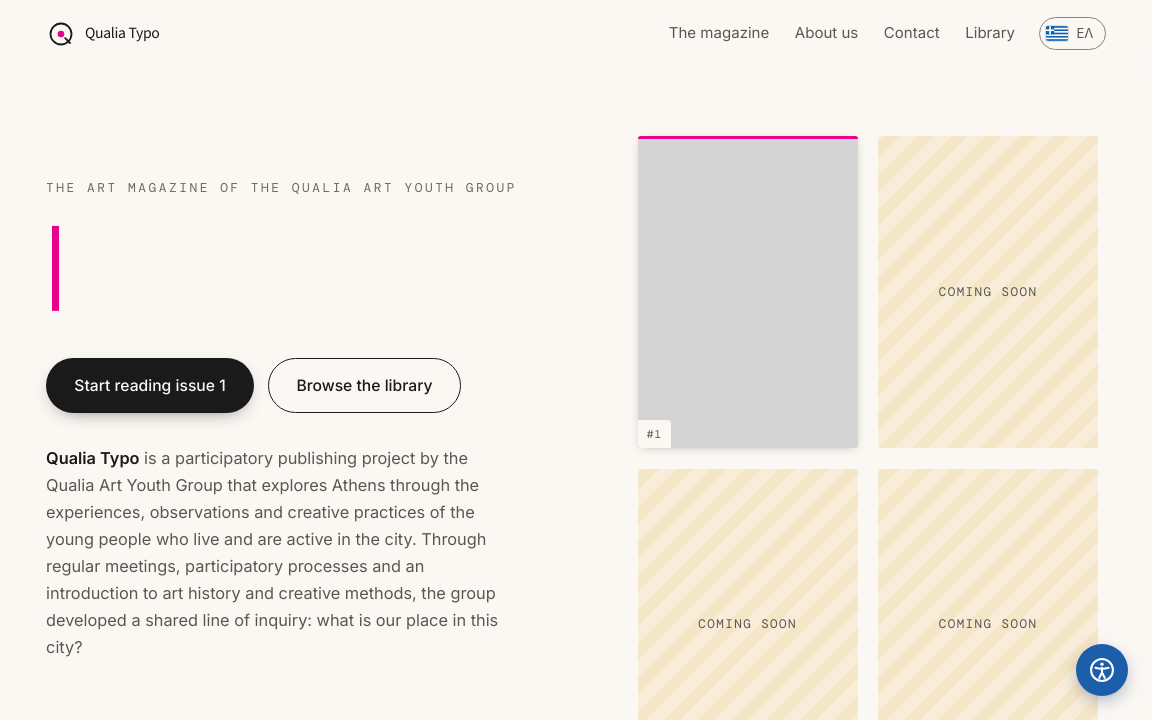
Test: the settings reach the document › names each stepper, so the two are told apart
Click the button named "Accessibility tools".
click(1102, 670)  # box 1076,644 -> 1128,696
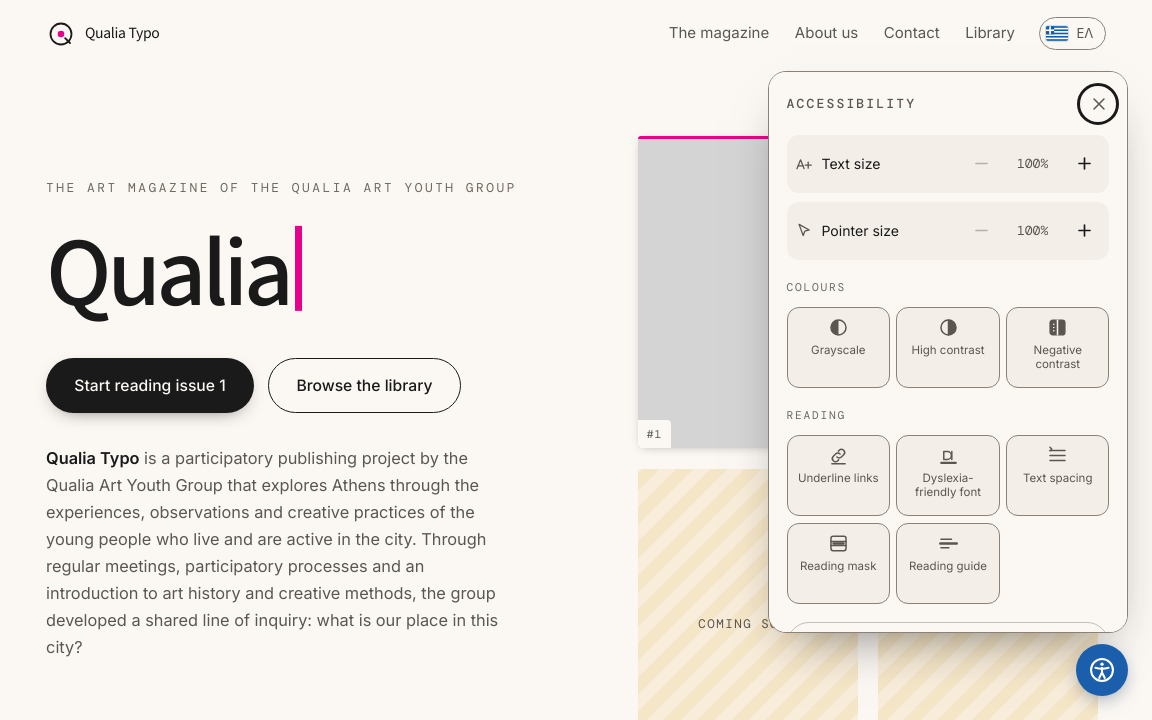
Expected: the element "Text size" is shown, 787,135 -> 1109,193
Expected: the element "Pointer size" is shown, 787,202 -> 1109,260
